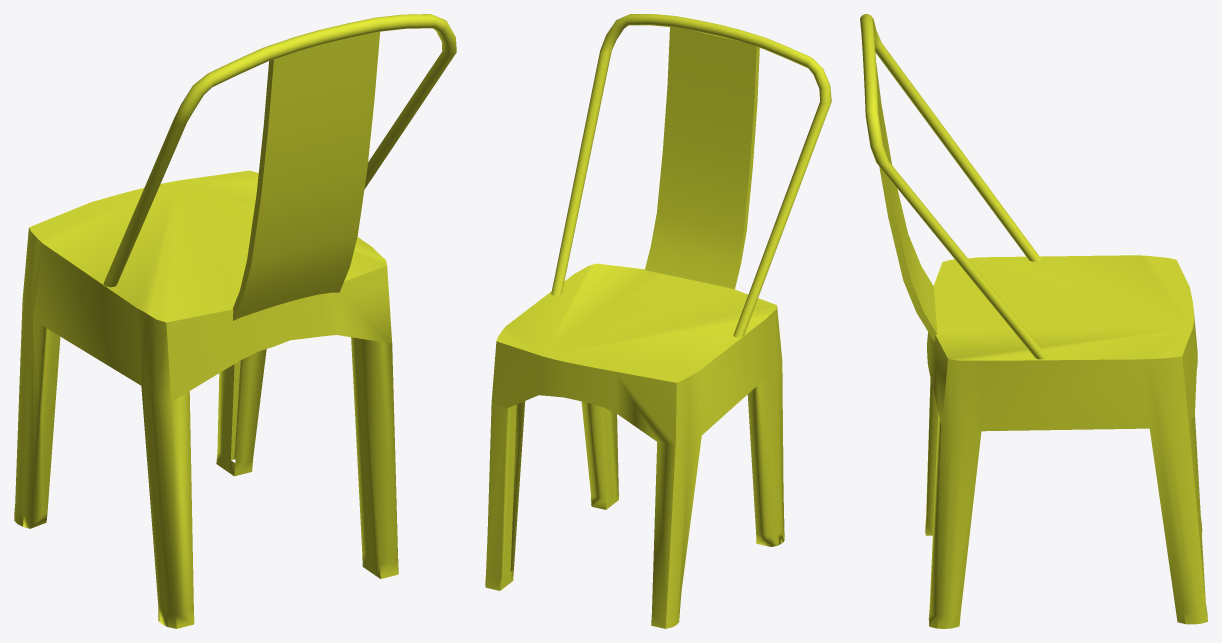
File: sillas mesas coffe point.fbx
3 views of the same model, side by side, from view 1: azimuth 30°, elevation 25°; view 2: azimuth 150°, elevation 25°; view 3: azimuth 270°, elevation 25° (orthographic). The views are drawn at different scales.
Visible parts, largest first — view 1: Cube.038; view 2: Cube.038; view 3: Cube.038.
Part boxes in pixels (left/top/right/bottom): Cube.038: left=14, top=14, right=456, bottom=628; Cube.038: left=485, top=14, right=831, bottom=628; Cube.038: left=860, top=14, right=1207, bottom=628.
Bounding box in the file's own units: 53.09 × 106 × 63.06.
